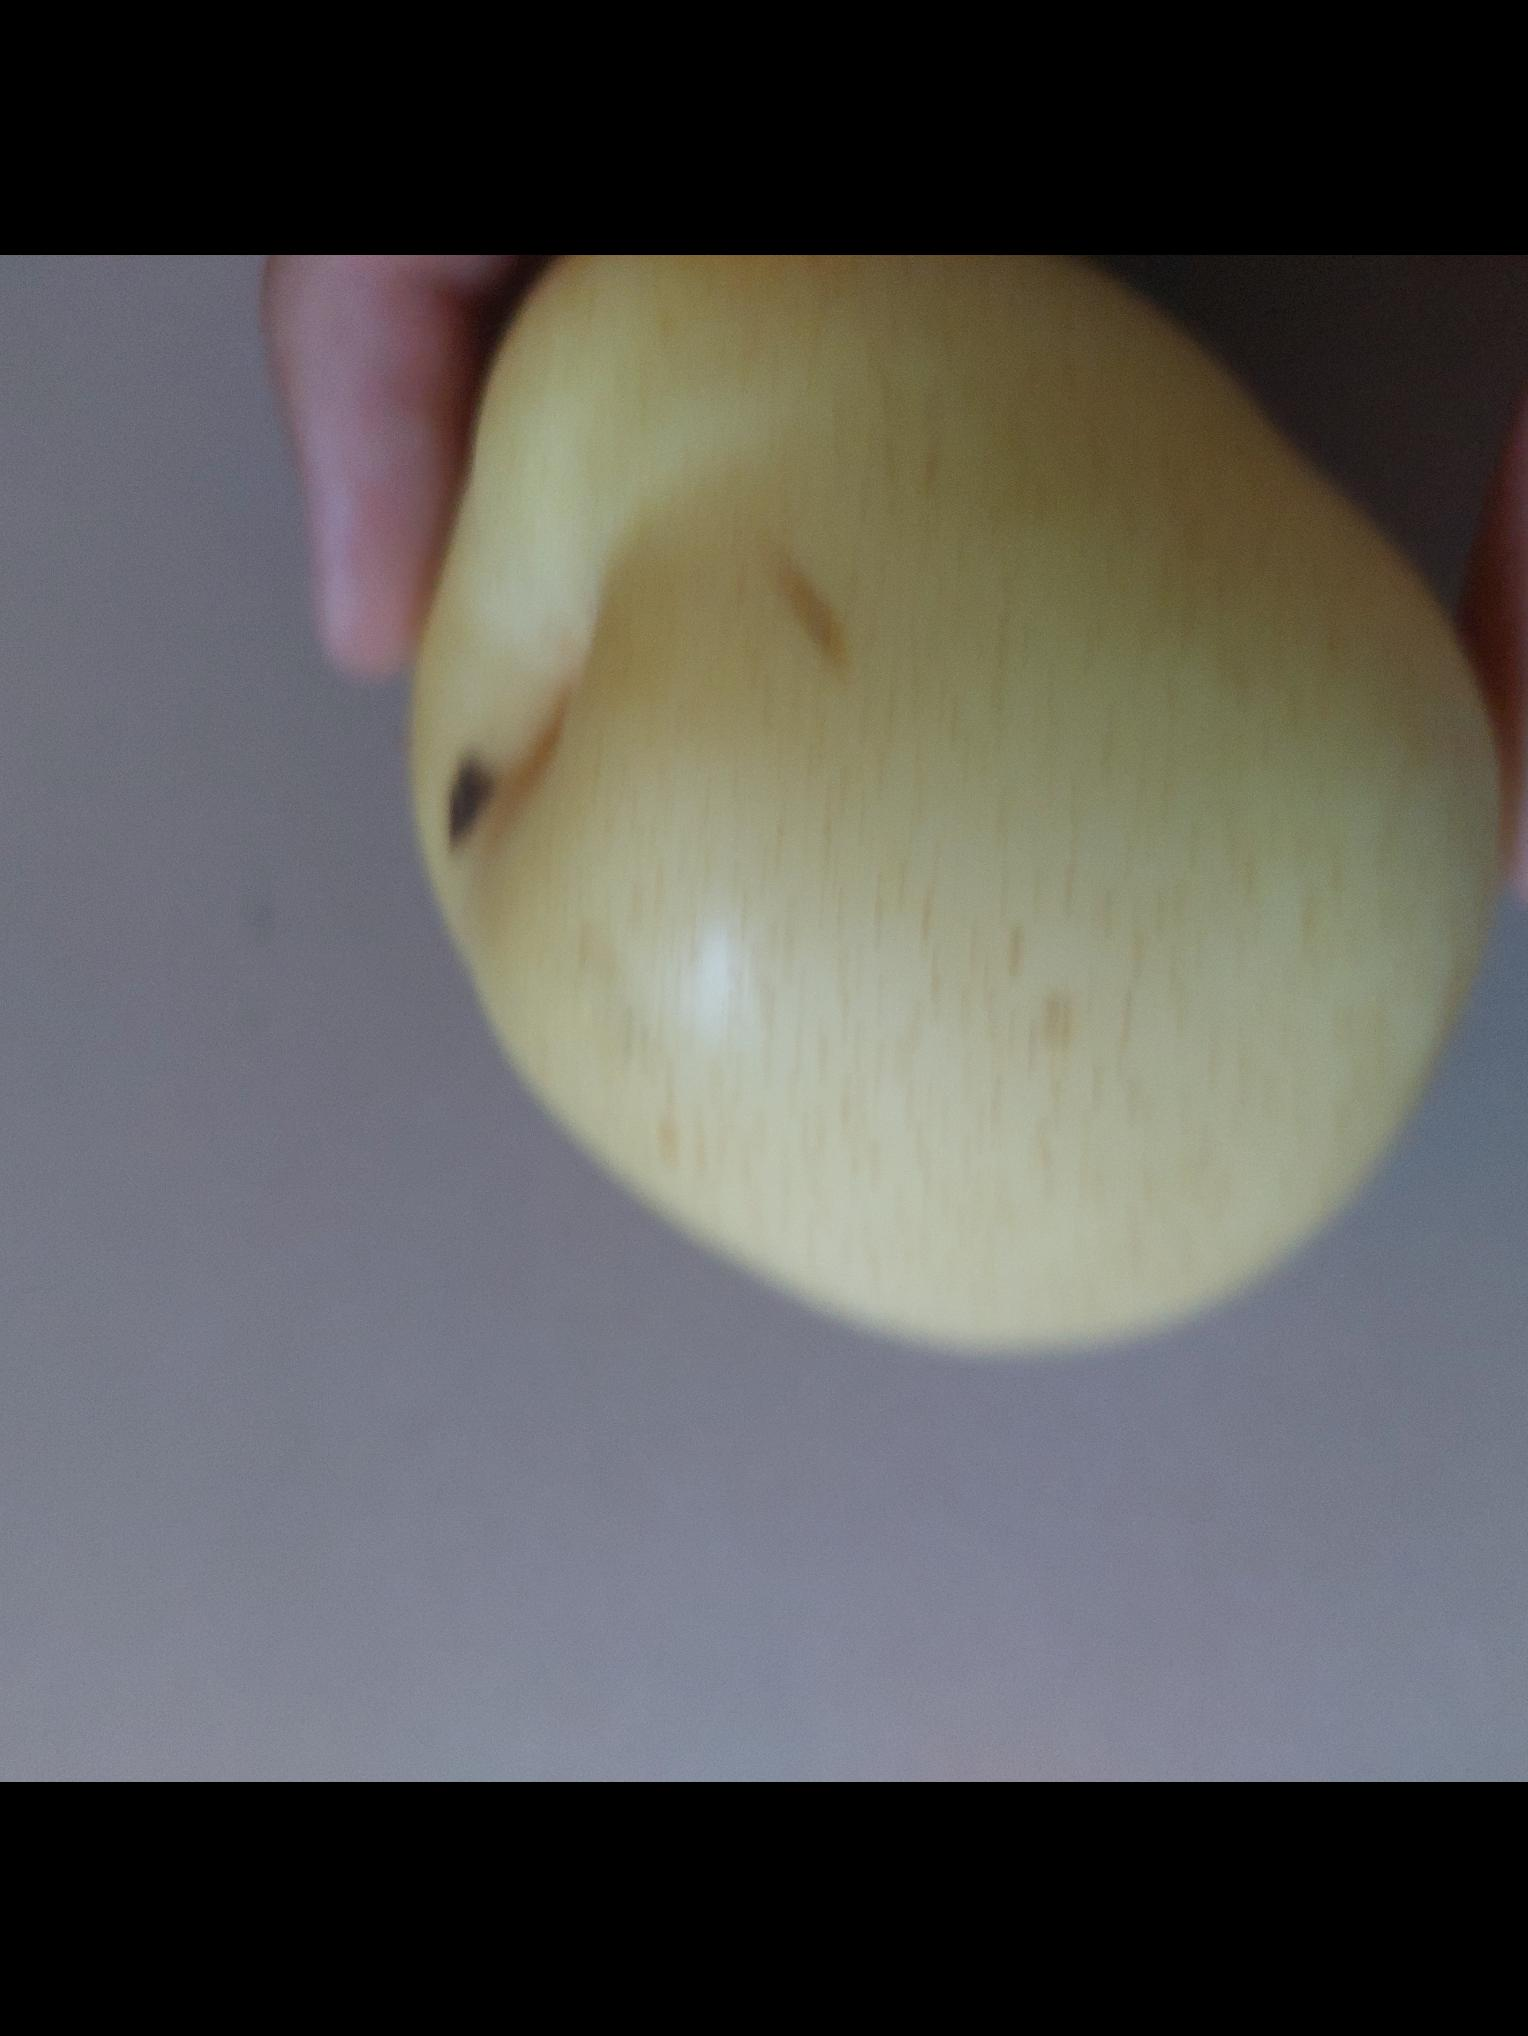Good Pear: (388, 257, 1522, 1386)
